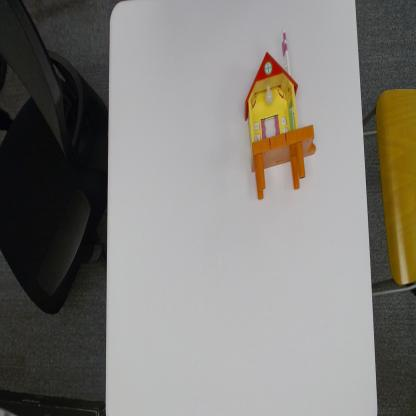House: (243, 30, 315, 199)
